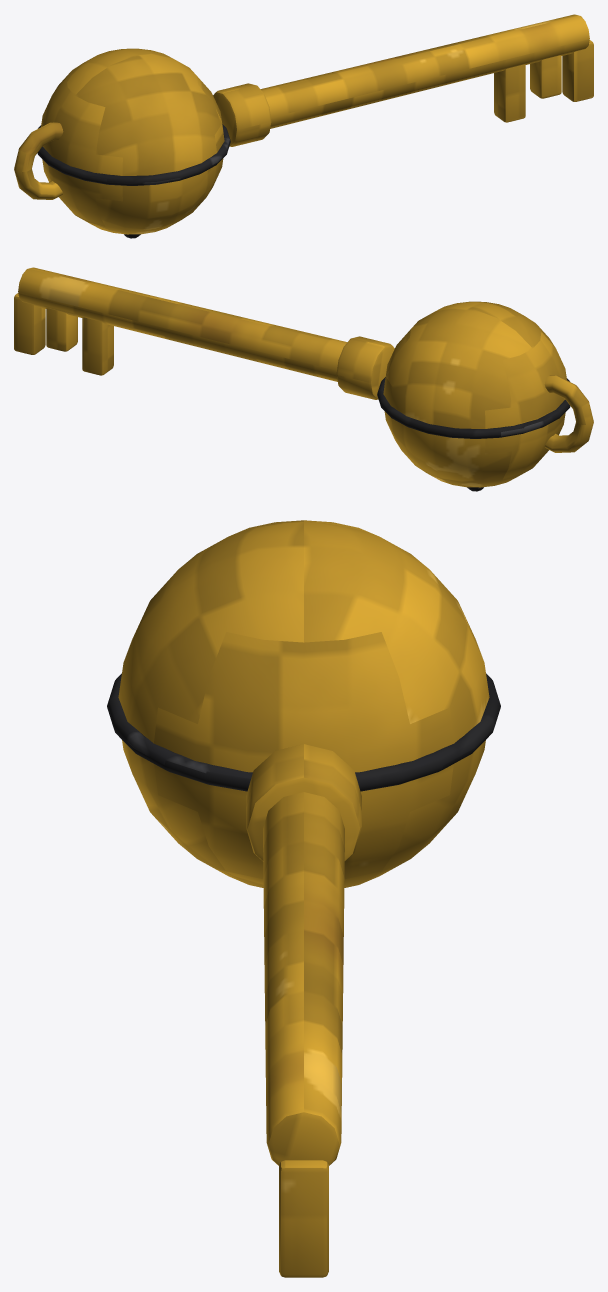
File: prop_key_gold.glb
The picture shows the model from 3 angles, top to bottom: view 1: azimuth 30°, elevation 25°; view 2: azimuth 150°, elevation 25°; view 3: azimuth 270°, elevation 25°; orthographic projection. The views are drawn at different scales.
Parts seen in each view (by area): view 1: prop_key_gold; view 2: prop_key_gold; view 3: prop_key_gold.
Part boxes in pixels (x1=…): prop_key_gold: x1=14, y1=14, x2=593, y2=238; prop_key_gold: x1=14, y1=267, x2=593, y2=491; prop_key_gold: x1=107, y1=520, x2=500, y2=1277.
Bounding box in the file's own units: 0.3195 × 0.096 × 0.095.
2 materials, 2 textured.
